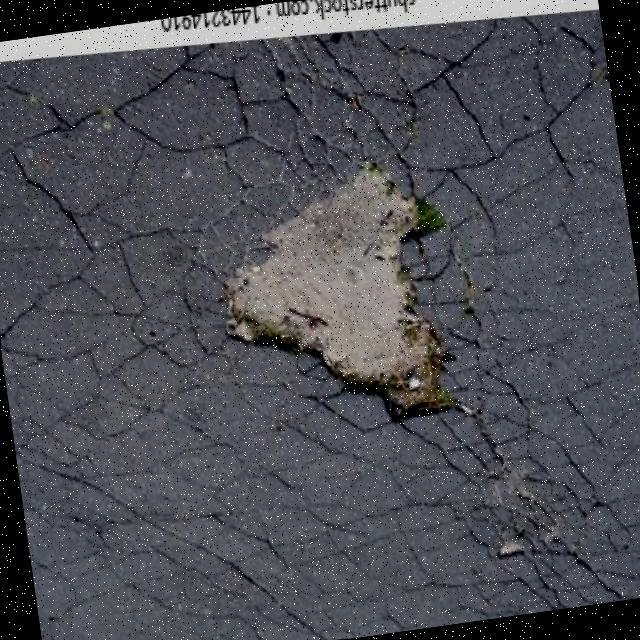Pothole: (227, 162, 458, 414)
